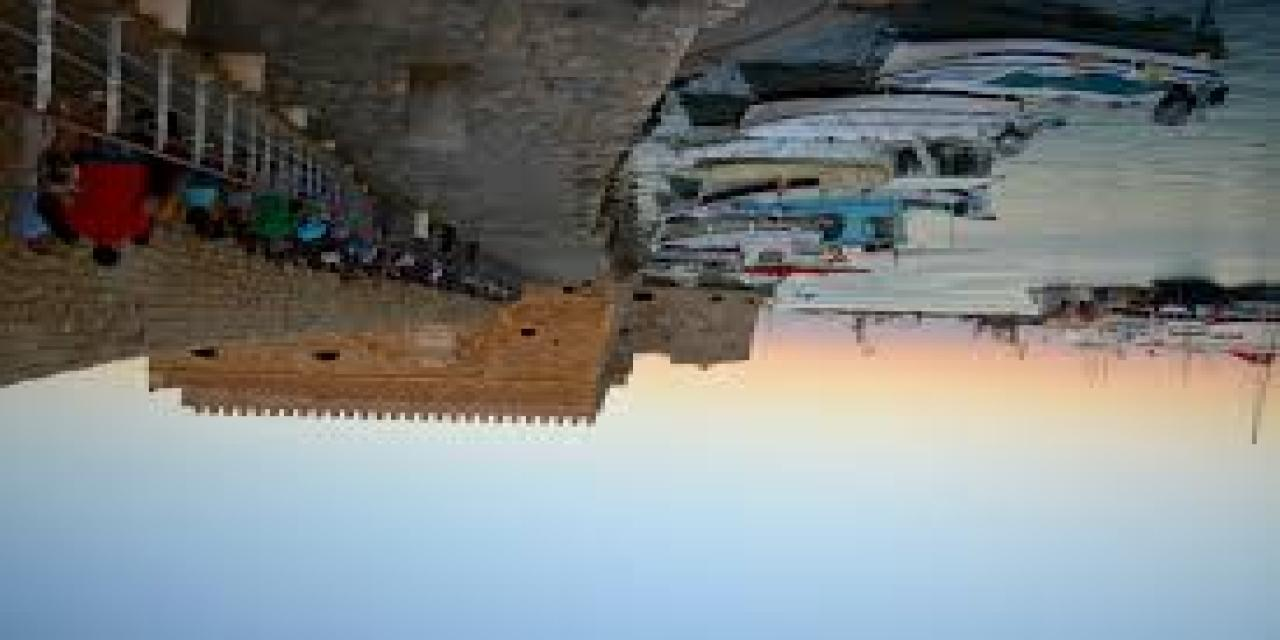Kules: (143, 280, 763, 428)
